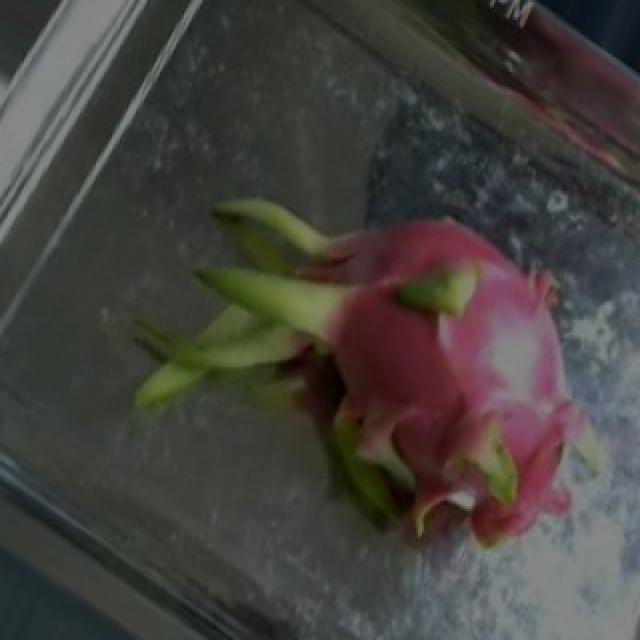fruit: (202, 146, 636, 608)
